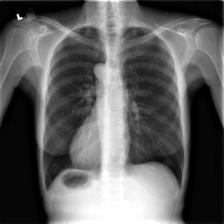normal: (38, 22, 190, 199)
